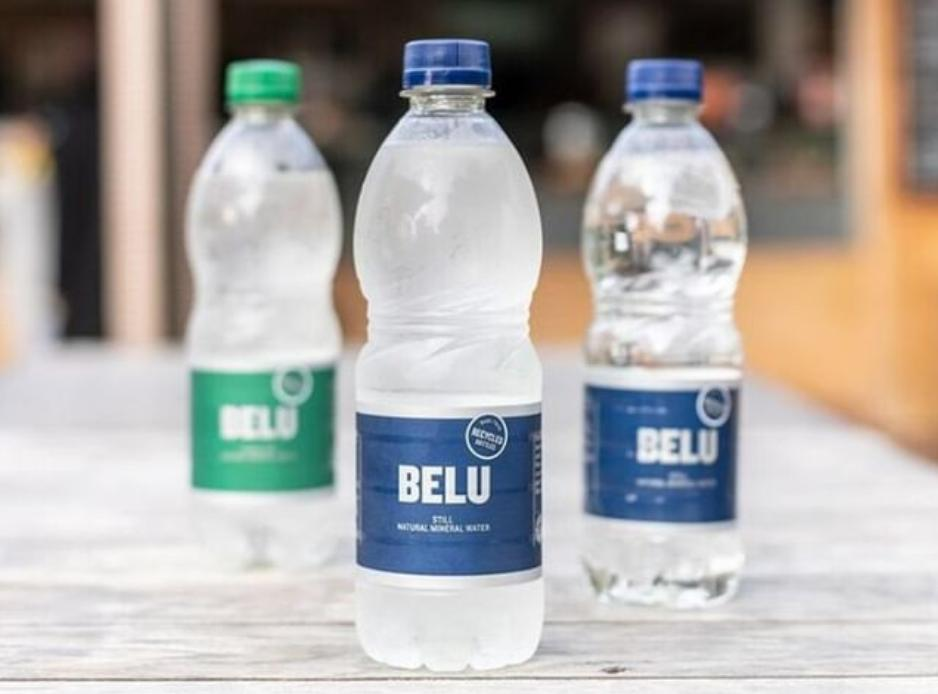bottle: (1, 0, 551, 677), (569, 0, 752, 609), (179, 14, 346, 576)
